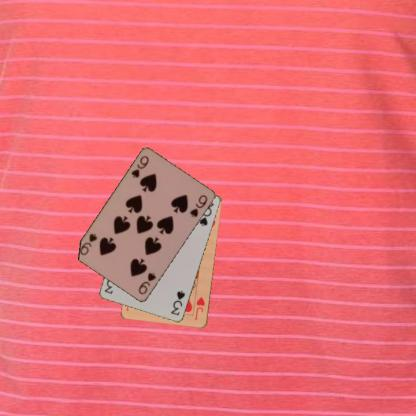3s: (168, 288, 187, 316)
9s: (128, 153, 150, 179), (136, 270, 157, 296)
Jh: (192, 294, 206, 321)
